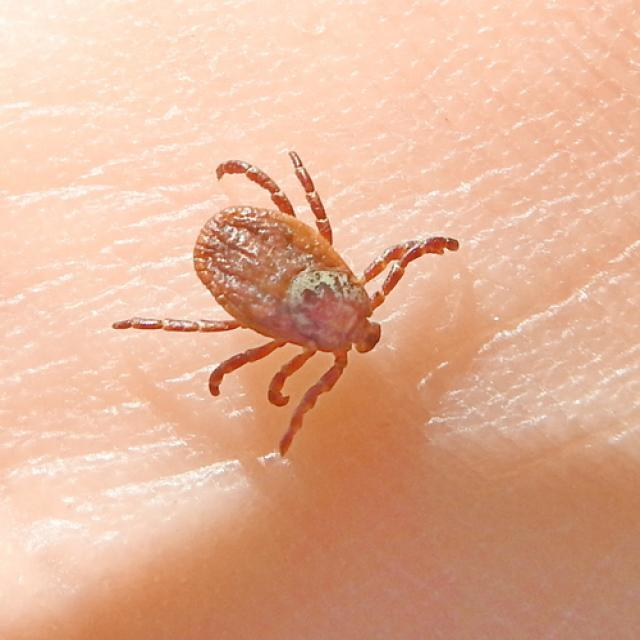Dermacentor Reticulatus-F: (113, 152, 460, 455)
